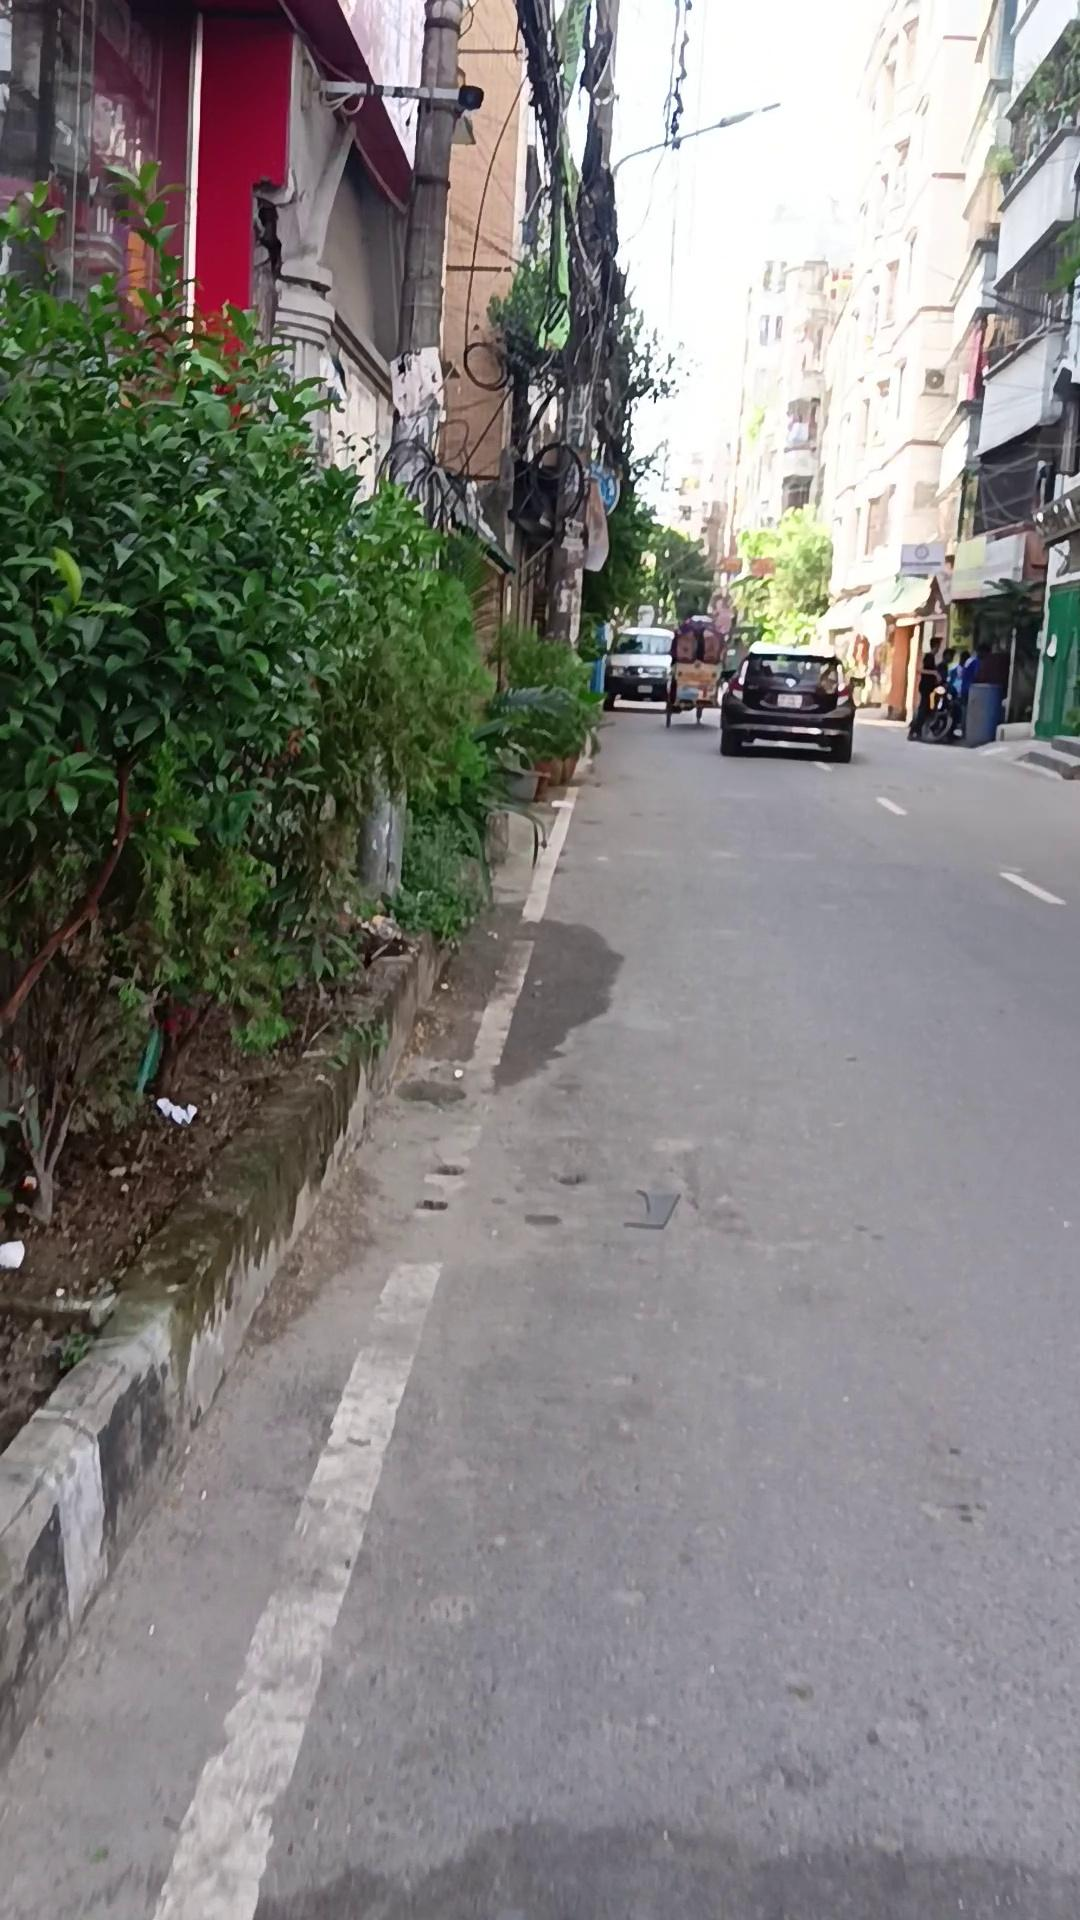Bollard: (717, 644, 855, 764), (601, 626, 678, 709)
Broken-road: (0, 923, 421, 1737)
Cat: (961, 680, 1004, 746)
Construction-barrier: (915, 671, 964, 742)
Dog: (357, 1, 477, 909)
Fallen-tree: (476, 618, 605, 803)
